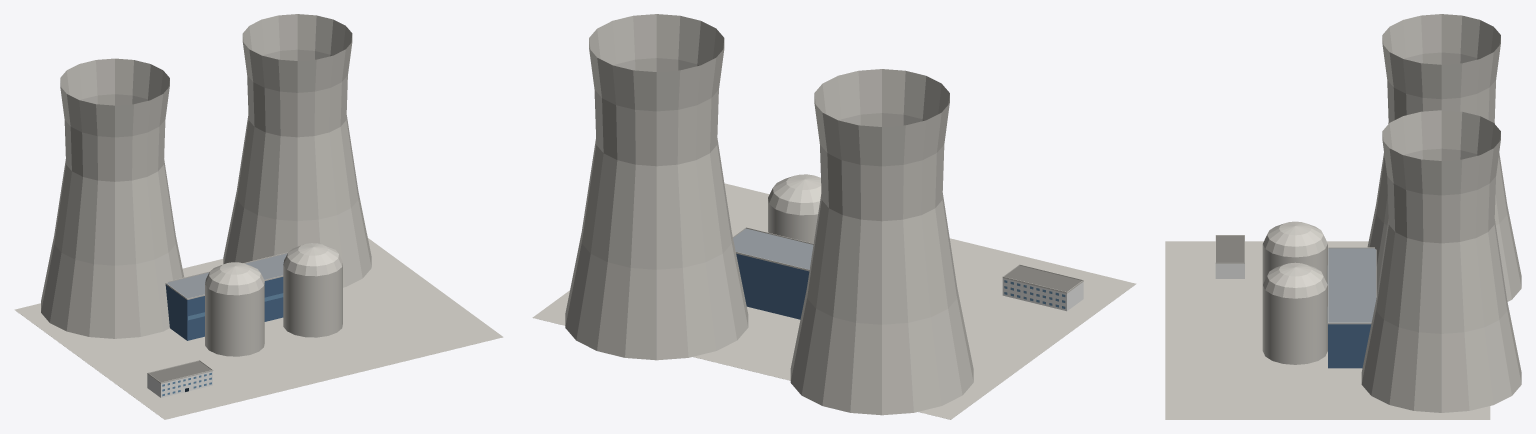
Rendered from centrale_nucleaire.glb.
The picture shows the model from 3 angles, left to right: view 1: azimuth 30°, elevation 25°; view 2: azimuth 150°, elevation 25°; view 3: azimuth 270°, elevation 25°; orthographic projection. The views are drawn at different scales.
Visible parts, largest first — view 1: centrale_nucleaire; view 2: centrale_nucleaire; view 3: centrale_nucleaire.
Boxes of the visible parts, box(x1,y1,x2,y2) form: centrale_nucleaire: box(14, 14, 503, 419); centrale_nucleaire: box(532, 14, 1136, 419); centrale_nucleaire: box(1165, 14, 1521, 419).
Bounding box in the file's own units: 260 × 165 × 219.
Materials: 1 (1 with a texture image).
